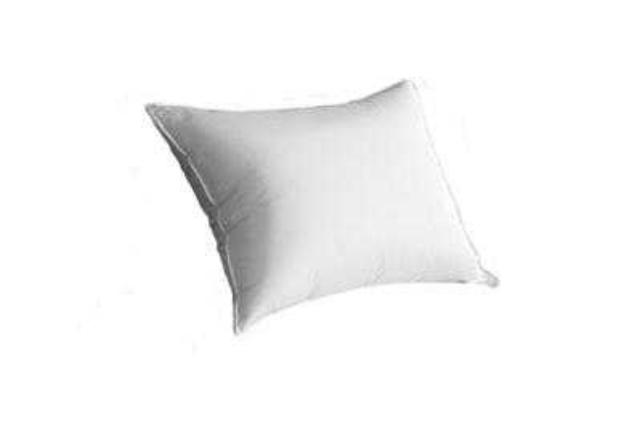pillow: (144, 76, 501, 334)
